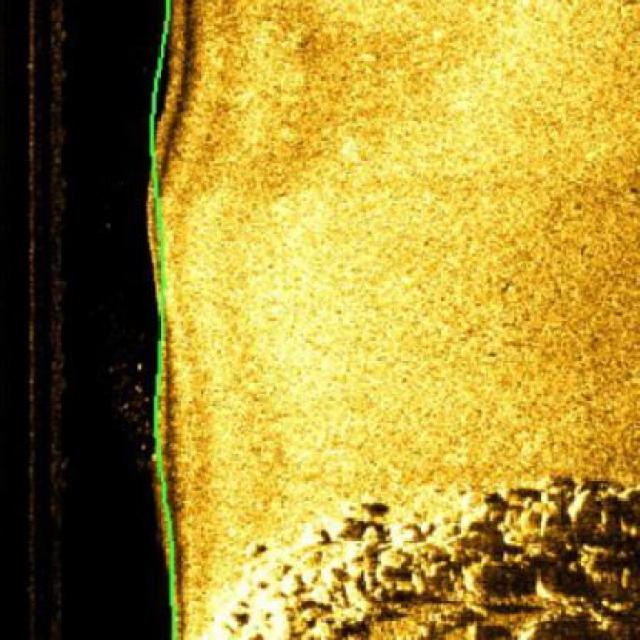bedrock group: (210, 475, 639, 639)
